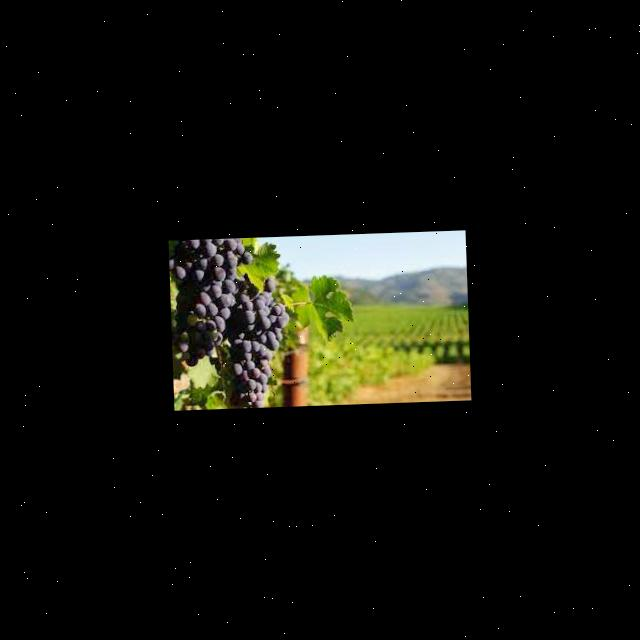grape: (168, 236, 292, 409)
